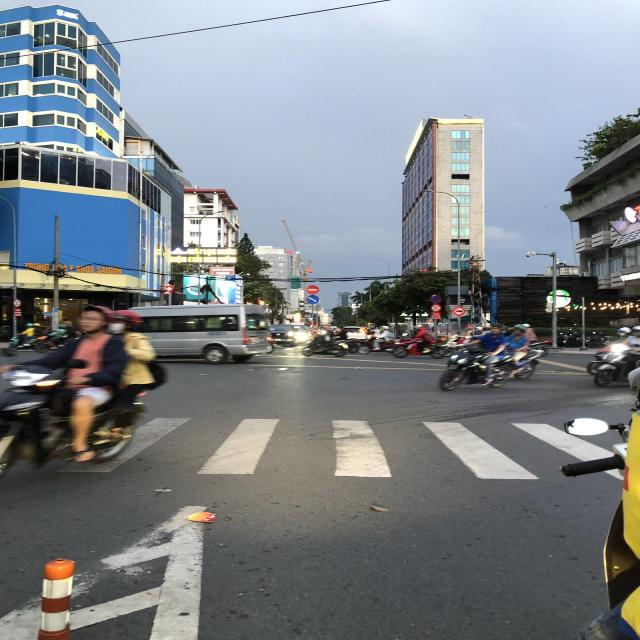Bien bao cam di nguoc chieu: (306, 284, 320, 295)
Bien bao huong phai di vong chuong ngai vat: (306, 294, 320, 305)
